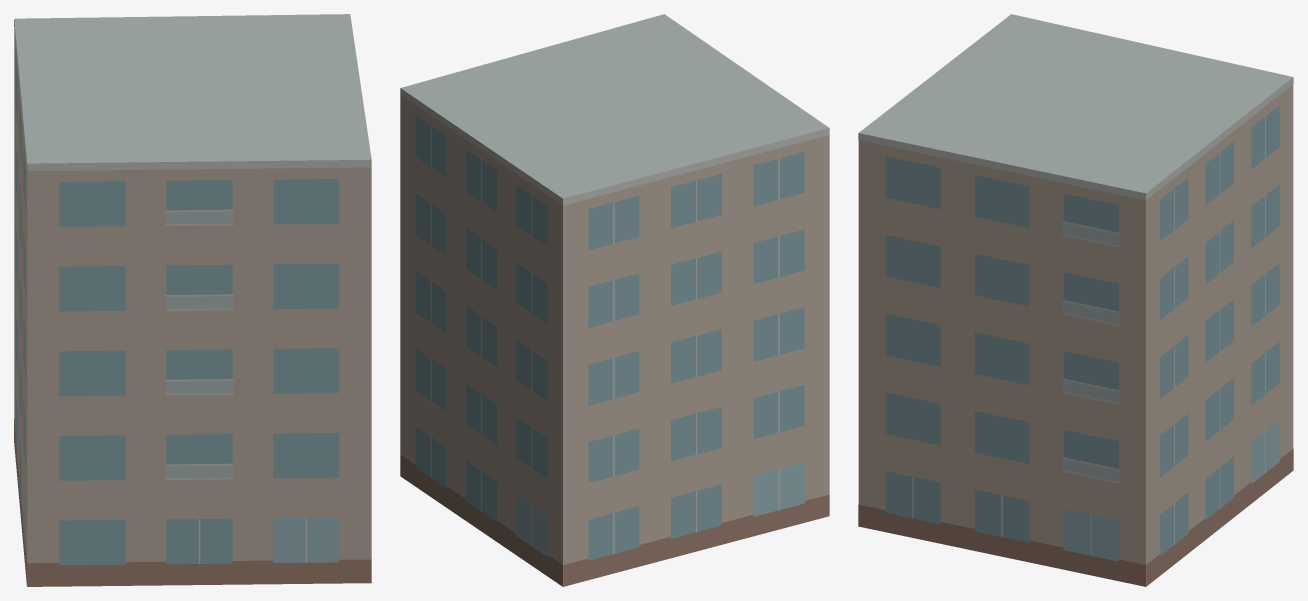
Rendered from survey-upis-33024618.glb.
The picture shows the model from 3 angles, left to right: view 1: azimuth 30°, elevation 25°; view 2: azimuth 150°, elevation 25°; view 3: azimuth 270°, elevation 25°; orthographic projection. The views are drawn at different scales.
Visible parts, largest first — view 1: survey-upis-33024618.tmp; view 2: survey-upis-33024618.tmp; view 3: survey-upis-33024618.tmp.
Boxes of the visible parts, x1,y1,x2,y2 form: survey-upis-33024618.tmp: (14, 14, 371, 586); survey-upis-33024618.tmp: (400, 14, 829, 586); survey-upis-33024618.tmp: (858, 14, 1293, 586).
Bounding box in the file's own units: 13.41 × 13.7 × 13.74.
